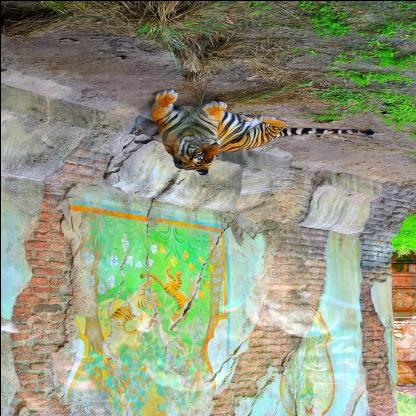tiger: (171, 130, 226, 170)
